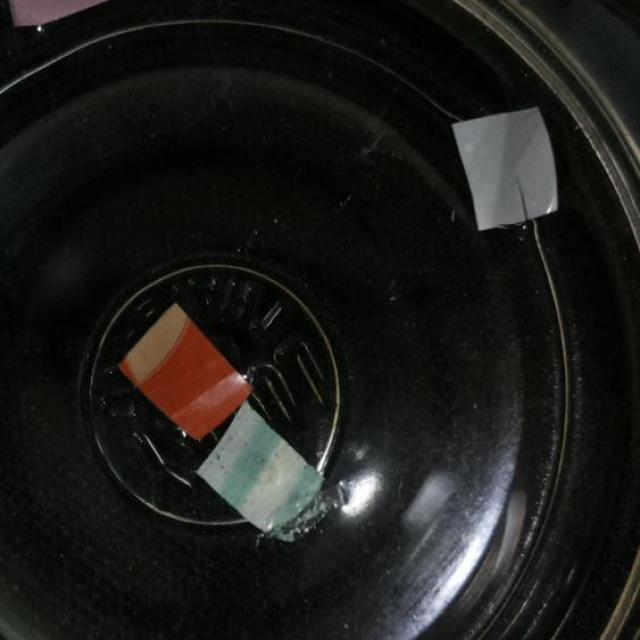fiber: (115, 301, 273, 441), (187, 412, 342, 539), (449, 108, 564, 226)
